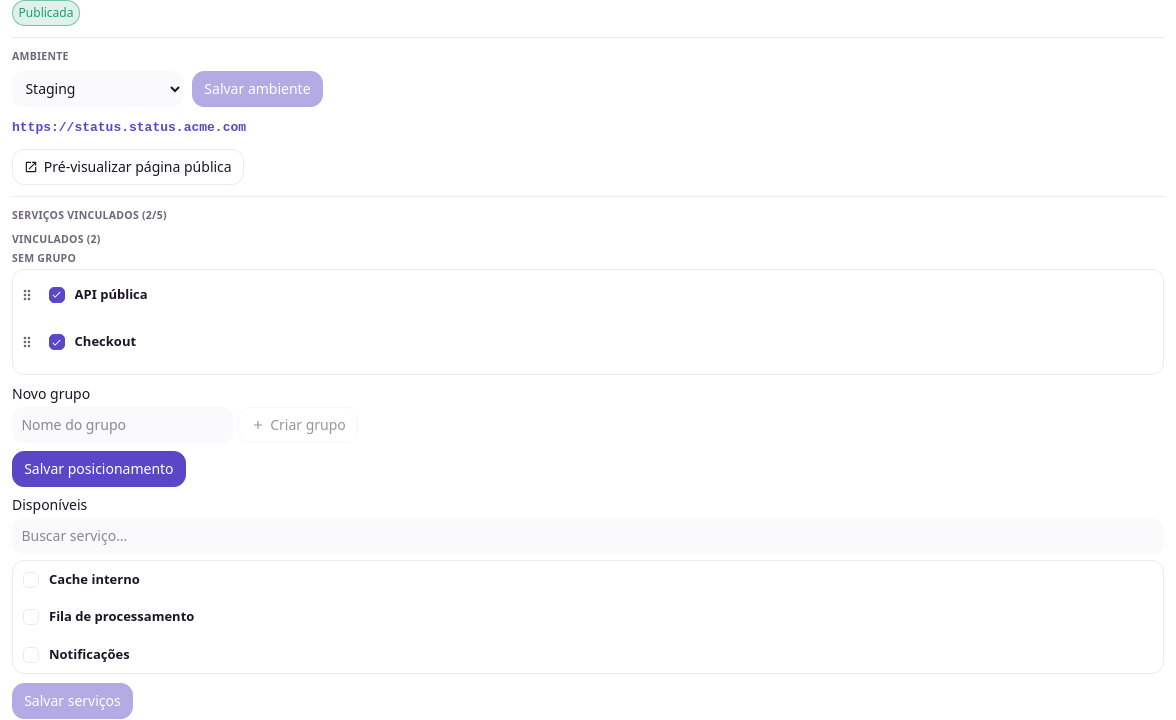
Test case: StatusPageDetail › search filters the Disponíveis group without affecting the Vinculados group (SPD-16)
Expected: the text "Serviços vinculados (2/5)" is shown, 12,208 -> 167,224
Type "notif" into the field labelled "Disponíveis" at (588, 536), box 12,518 -> 1164,554
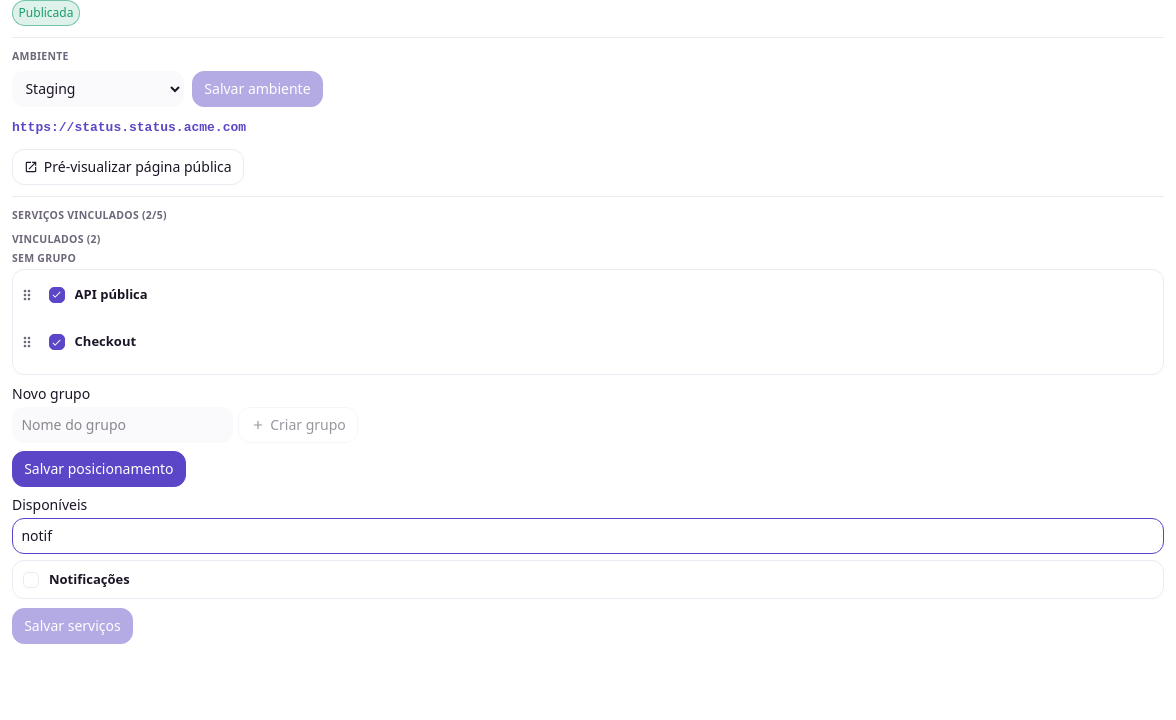
Expected: the button "Notificações" is shown, 13,561 -> 1163,598
Now the button "Fila de processamento" is gone
